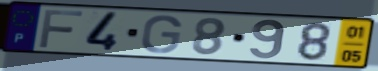4: (82, 10, 123, 54)
8: (296, 21, 333, 62), (191, 17, 228, 57)
9: (248, 18, 286, 61)
F: (37, 9, 86, 50)
G: (139, 14, 184, 55)
